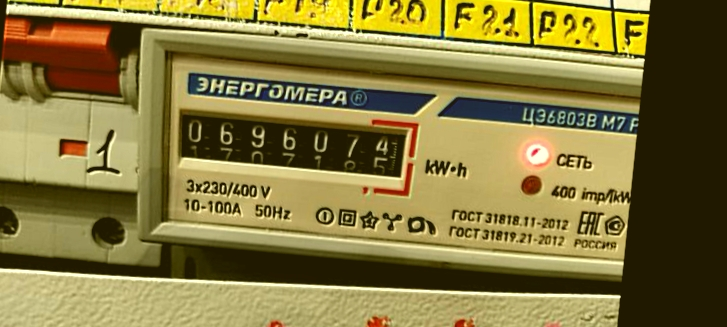0: (185, 117, 206, 144), (311, 127, 331, 155)
4: (373, 132, 391, 156)
5: (371, 155, 389, 177)
6: (279, 124, 300, 152), (217, 119, 237, 146)
7: (343, 131, 361, 159)
9: (248, 122, 267, 149)
screen: (163, 95, 423, 201)
